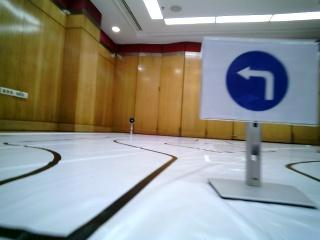left: (211, 45, 314, 127)
